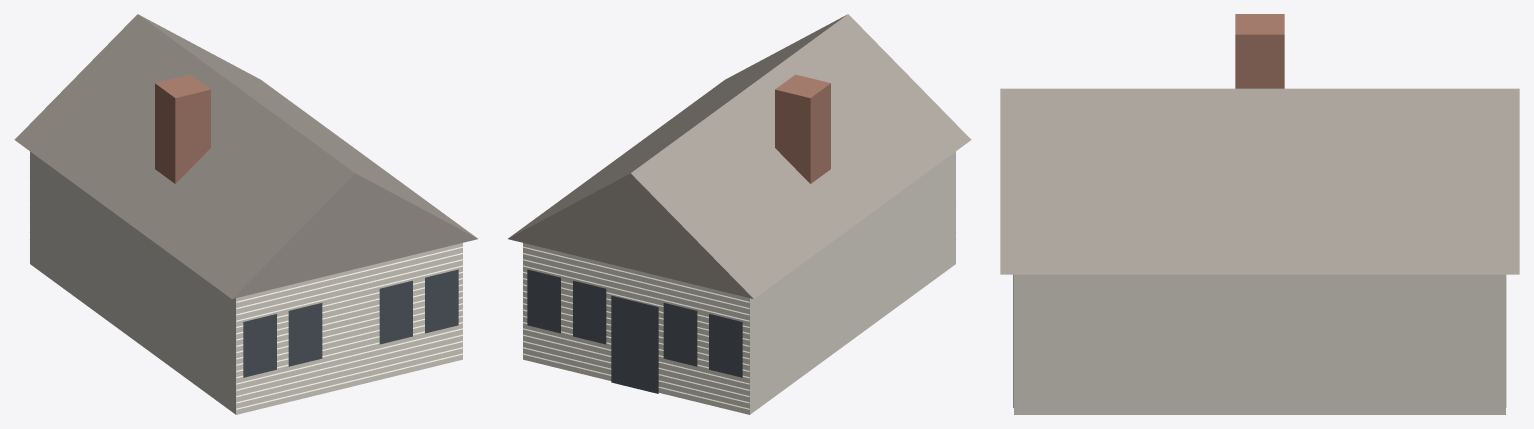
File: recon_1835_north_i2_015__inferred_1835.glb
The picture shows the model from 3 angles, left to right: view 1: azimuth 30°, elevation 25°; view 2: azimuth 150°, elevation 25°; view 3: azimuth 270°, elevation 25°; orthographic projection. The views are drawn at different scales.
Parts seen in each view (by area): view 1: recon_1835_north_i2_015__inferred_1835; view 2: recon_1835_north_i2_015__inferred_1835; view 3: recon_1835_north_i2_015__inferred_1835.
Boxes of the visible parts, x1=… form: recon_1835_north_i2_015__inferred_1835: x1=14, y1=14, x2=477, y2=414; recon_1835_north_i2_015__inferred_1835: x1=508, y1=14, x2=971, y2=414; recon_1835_north_i2_015__inferred_1835: x1=1000, y1=14, x2=1519, y2=414.
Bounding box in the file's own units: 6.24 × 5.83 × 9.54.
